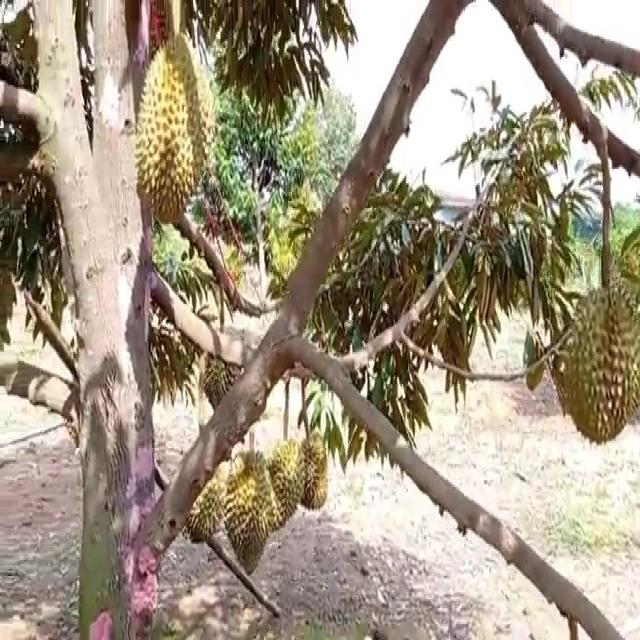durian: (134, 20, 221, 226), (559, 278, 634, 450), (225, 439, 276, 577), (203, 324, 246, 430), (180, 455, 230, 543), (261, 434, 305, 532), (294, 425, 330, 520)
